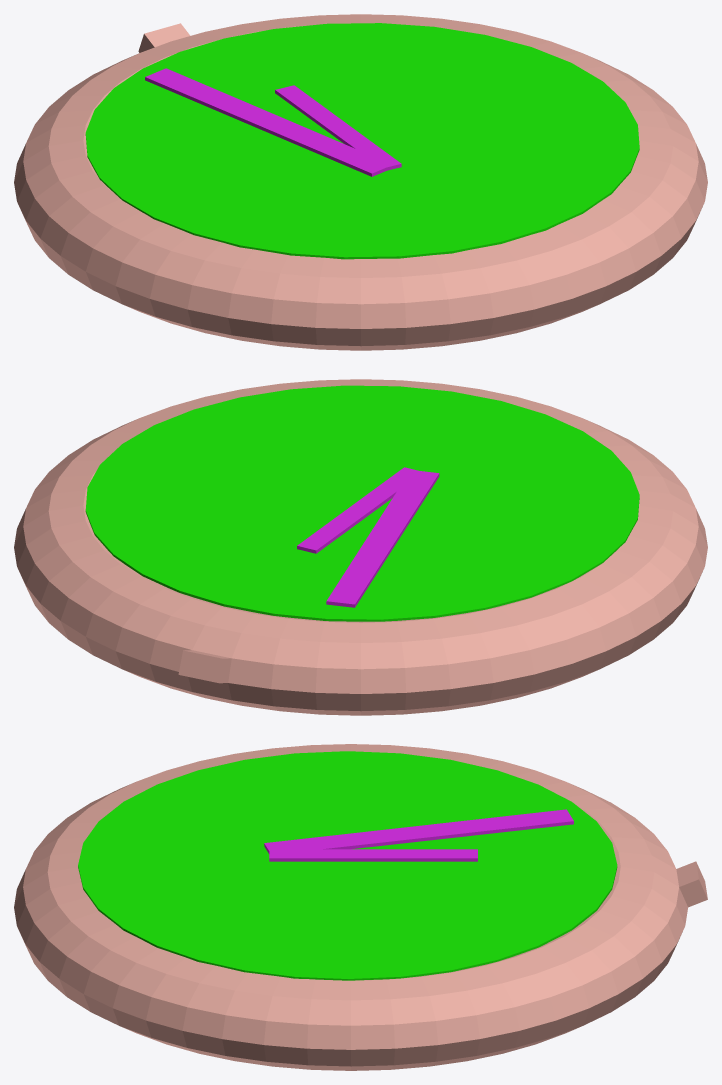
Rendered from add time.fbx.
3 renders of one model, top to bottom at view 1: azimuth 30°, elevation 25°; view 2: azimuth 150°, elevation 25°; view 3: azimuth 270°, elevation 25°, orthographic. The views are drawn at different scales.
Visible parts, largest first — view 1: add time; view 2: add time; view 3: add time.
Boxes of the visible parts, <box> form: add time: <box>14,14,707,350</box>; add time: <box>14,379,707,715</box>; add time: <box>14,744,707,1070</box>.
Size of the model in its own units: 3.75 by 0.557 by 3.86.
